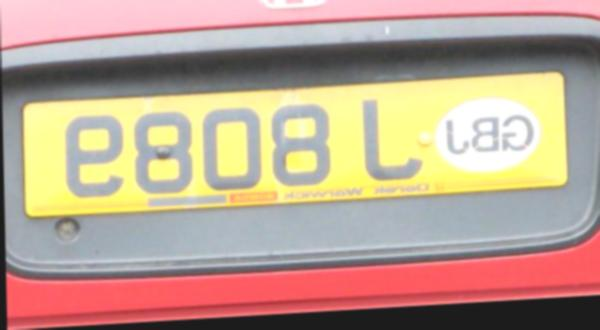License_Plate: (15, 63, 573, 222)
